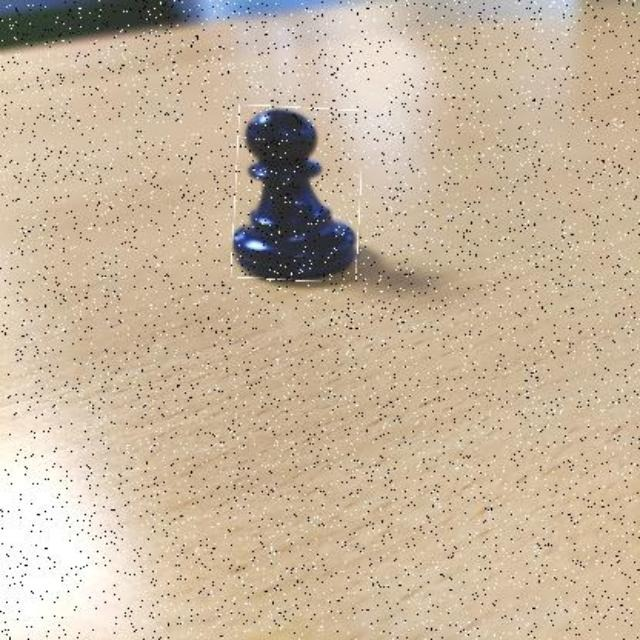black-pawn: (233, 106, 362, 282)
